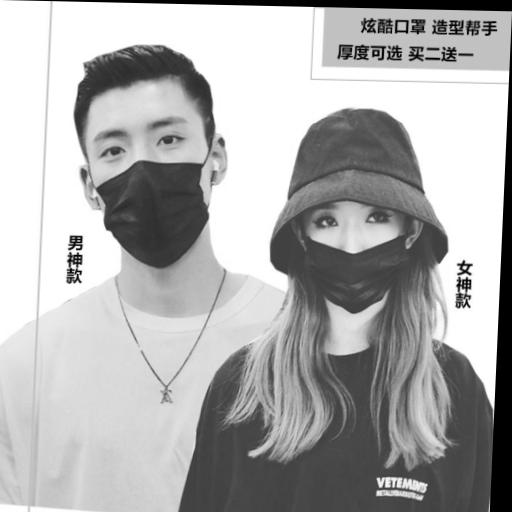mask: (56, 50, 251, 275), (269, 106, 462, 324)
